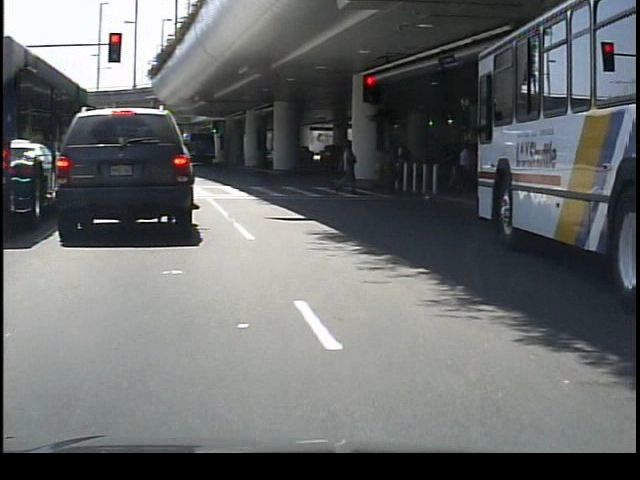person: (332, 136, 363, 198), (450, 137, 479, 196), (380, 138, 407, 193)
